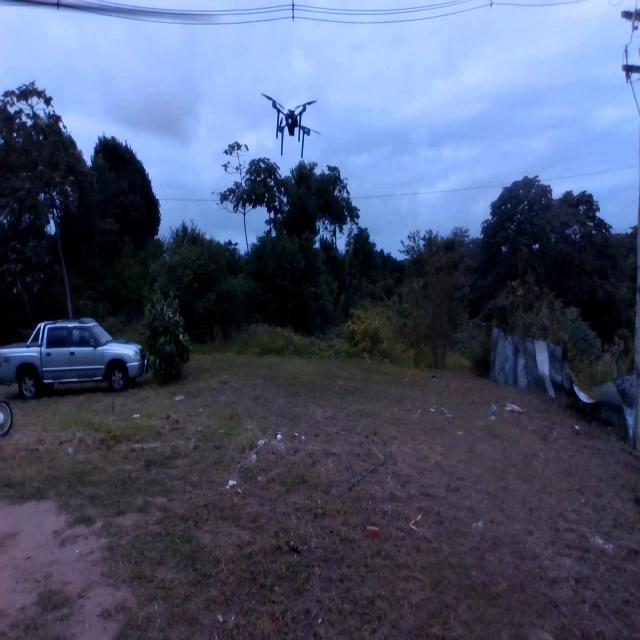-uav-: (255, 80, 327, 167)
